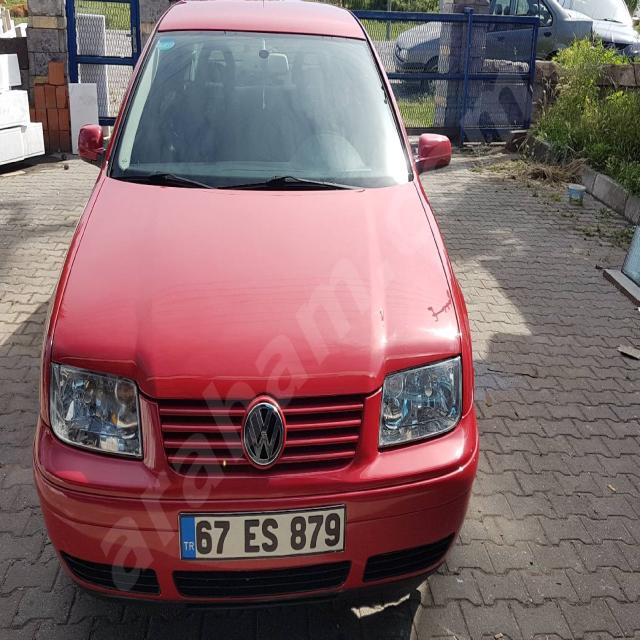license_plate: (180, 507, 346, 560)
